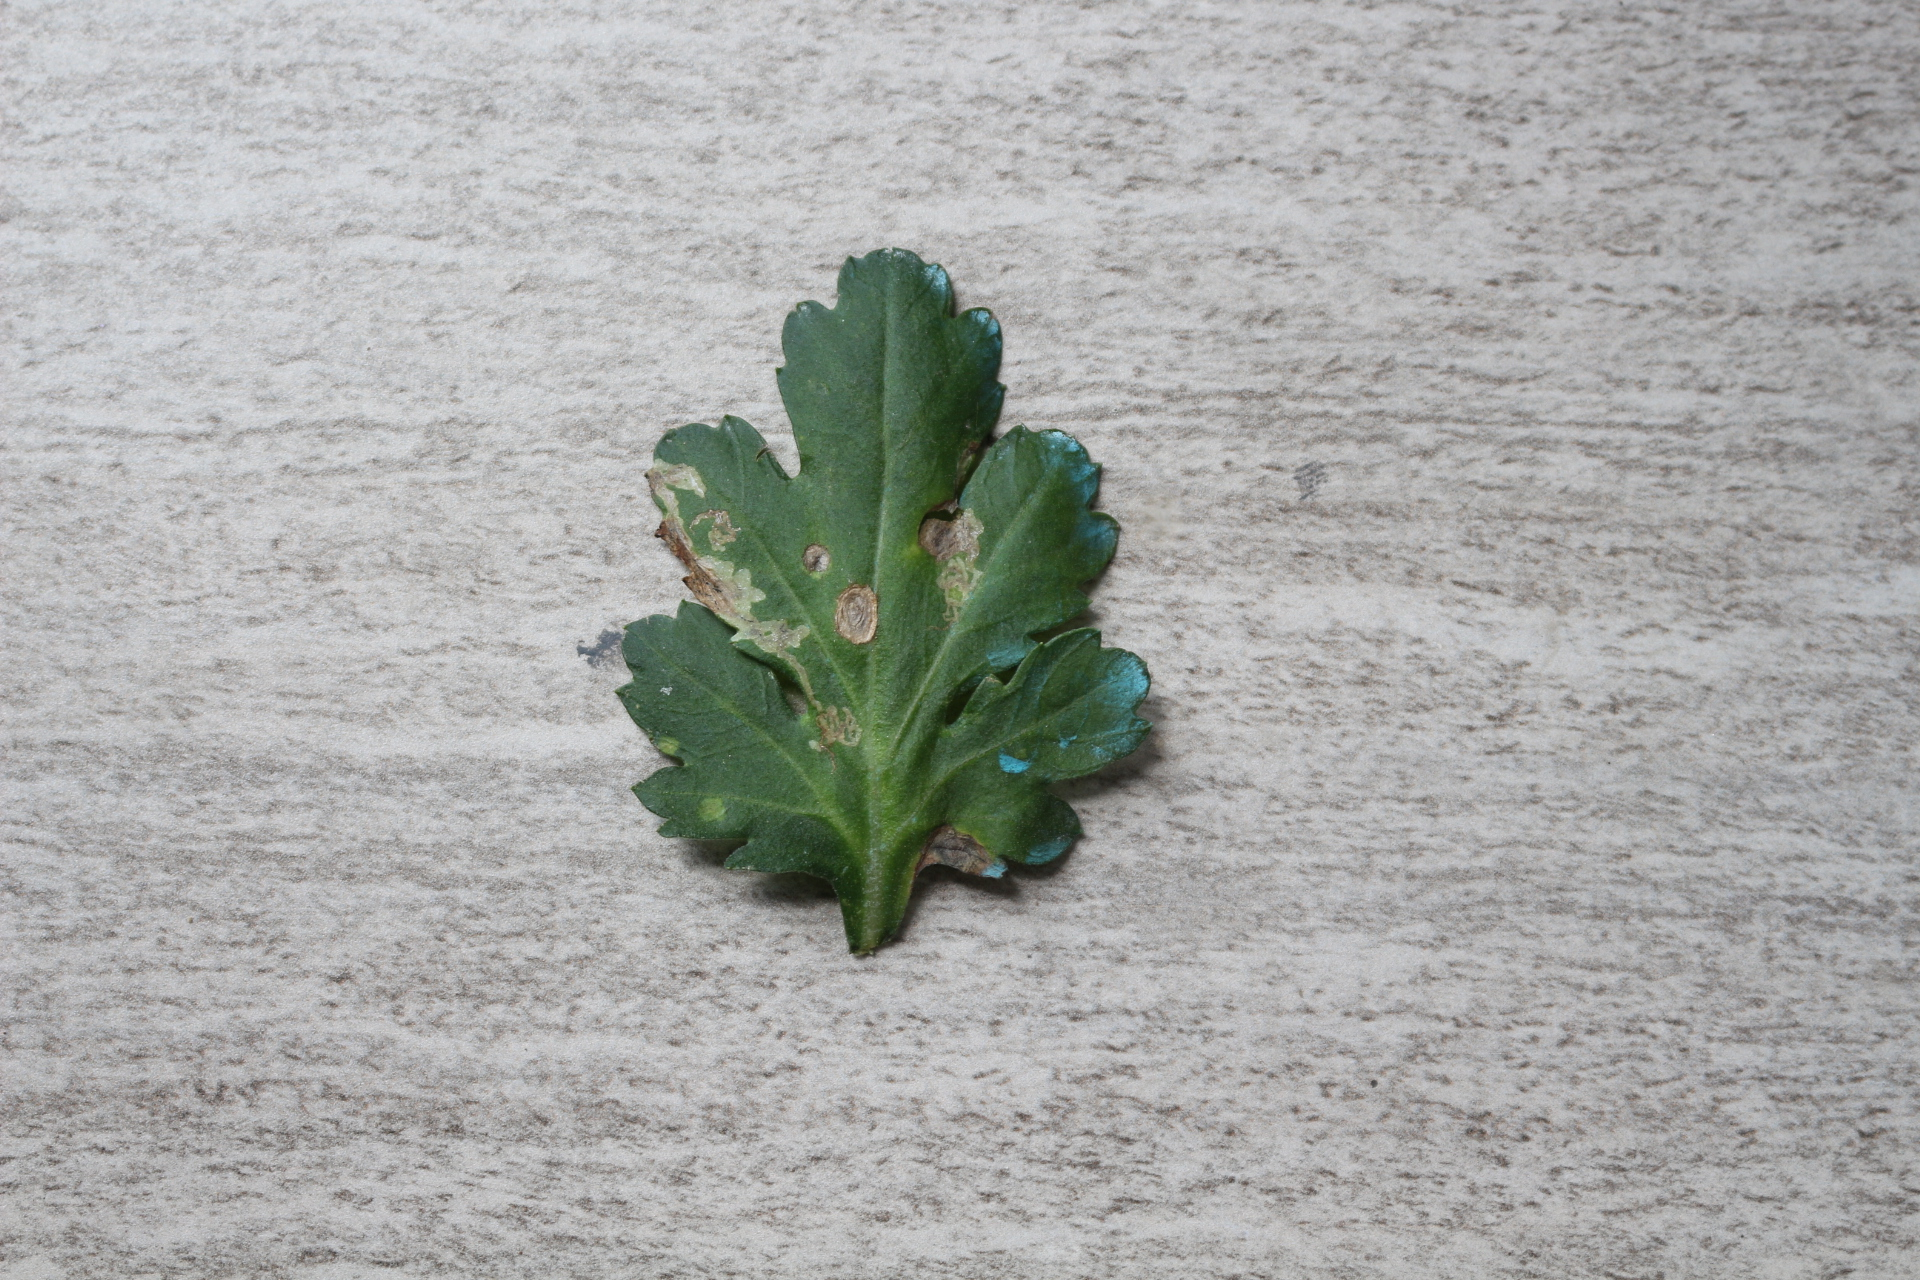namden: (911, 494, 979, 569), (830, 583, 889, 649), (800, 544, 834, 579)
namsung: (649, 729, 689, 766), (696, 794, 731, 827)
